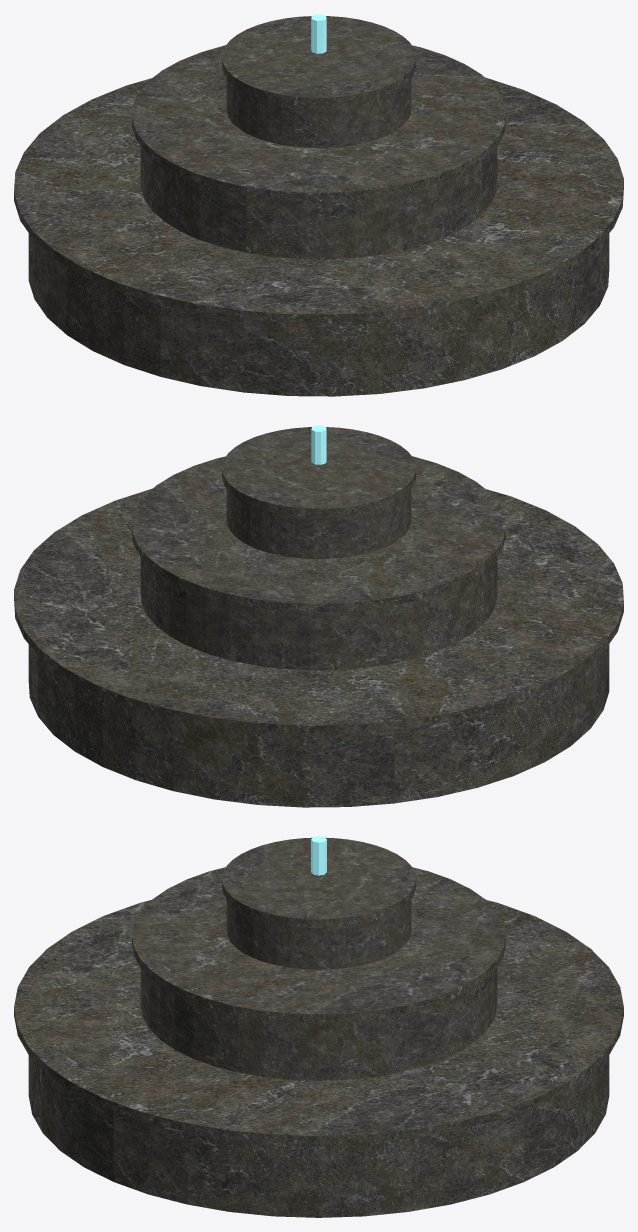
The model's file is fountain.glb.
The picture shows the model from 3 angles, top to bottom: view 1: azimuth 30°, elevation 25°; view 2: azimuth 150°, elevation 25°; view 3: azimuth 270°, elevation 25°; orthographic projection.
Visible parts, largest first — view 1: fountain; view 2: fountain; view 3: fountain.
Boxes of the visible parts, x1,y1,x2,y2 form: fountain: (14,14,623,396); fountain: (14,425,623,807); fountain: (14,836,623,1217).
Size of the model in its own units: 9.24 by 4.28 by 9.24.
2 materials, 1 textured.
